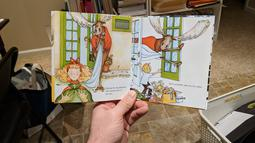text block: (165, 80, 203, 91), (101, 84, 128, 97)
